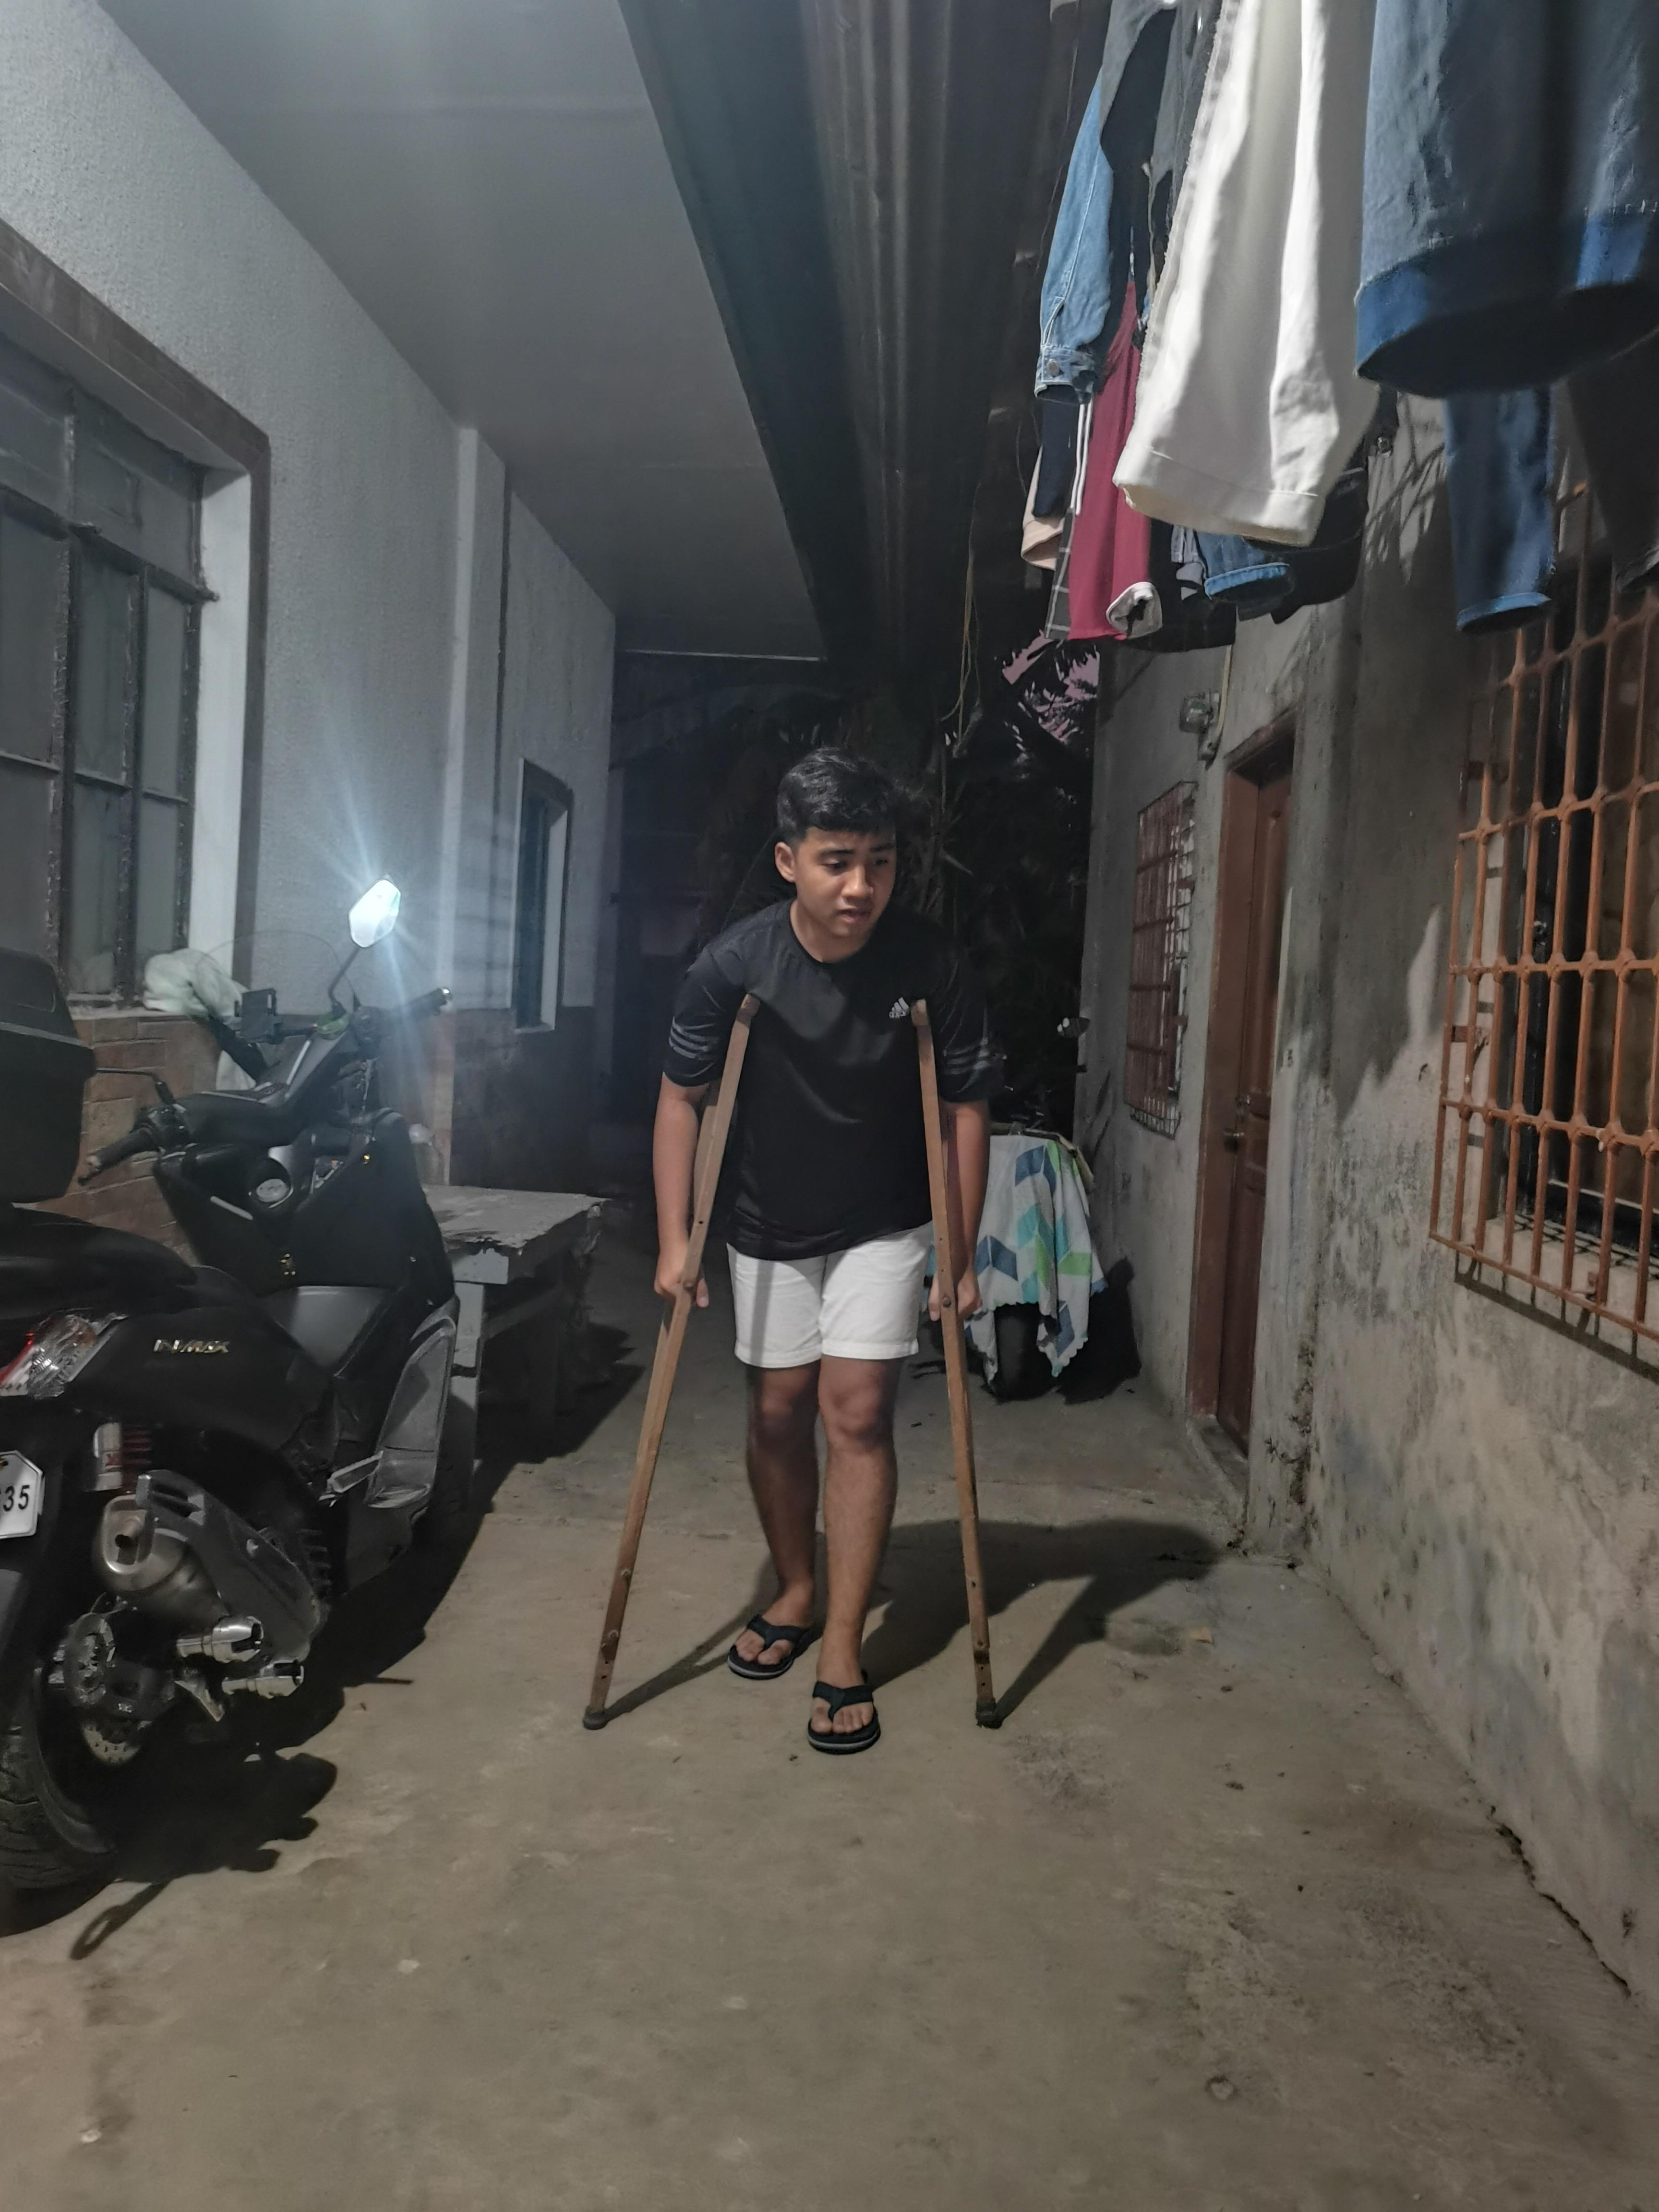crutches: (568, 735, 1018, 1773)
